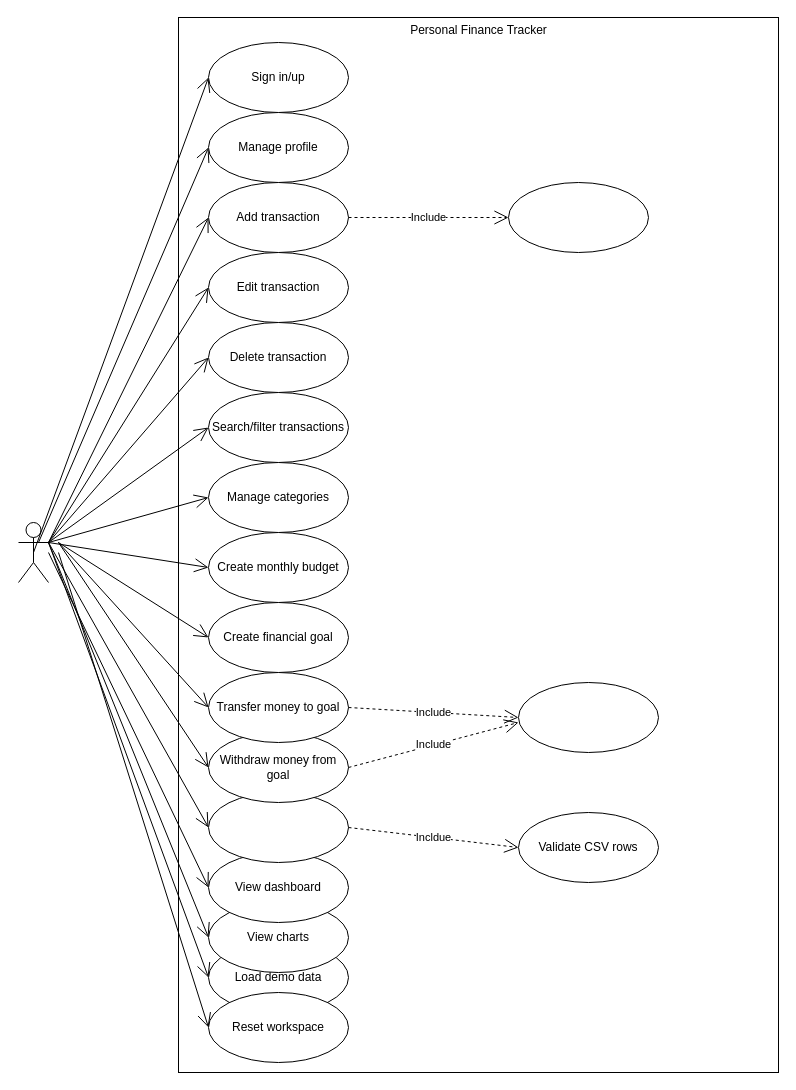
Image size: 796x1090. Some labels were removed from this diagram. Each missing label, with the centre of its shape:
Select active goal: the point at 588,717
Upload/export CSV: the point at 278,827
USER: the point at 33,552
Validate transaction input: the point at 578,217
